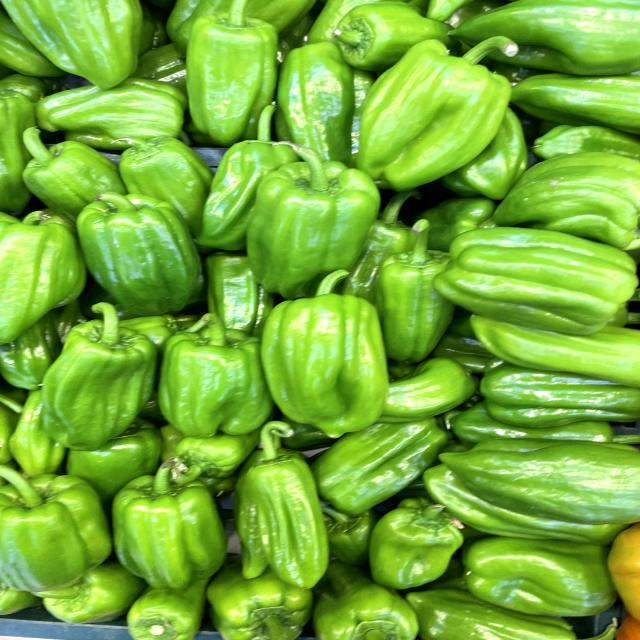bell pepper: (233, 265, 419, 441), (346, 29, 542, 187), (429, 219, 640, 340), (16, 298, 171, 456), (242, 134, 386, 300), (98, 455, 242, 597), (230, 419, 342, 594), (176, 0, 293, 145)
